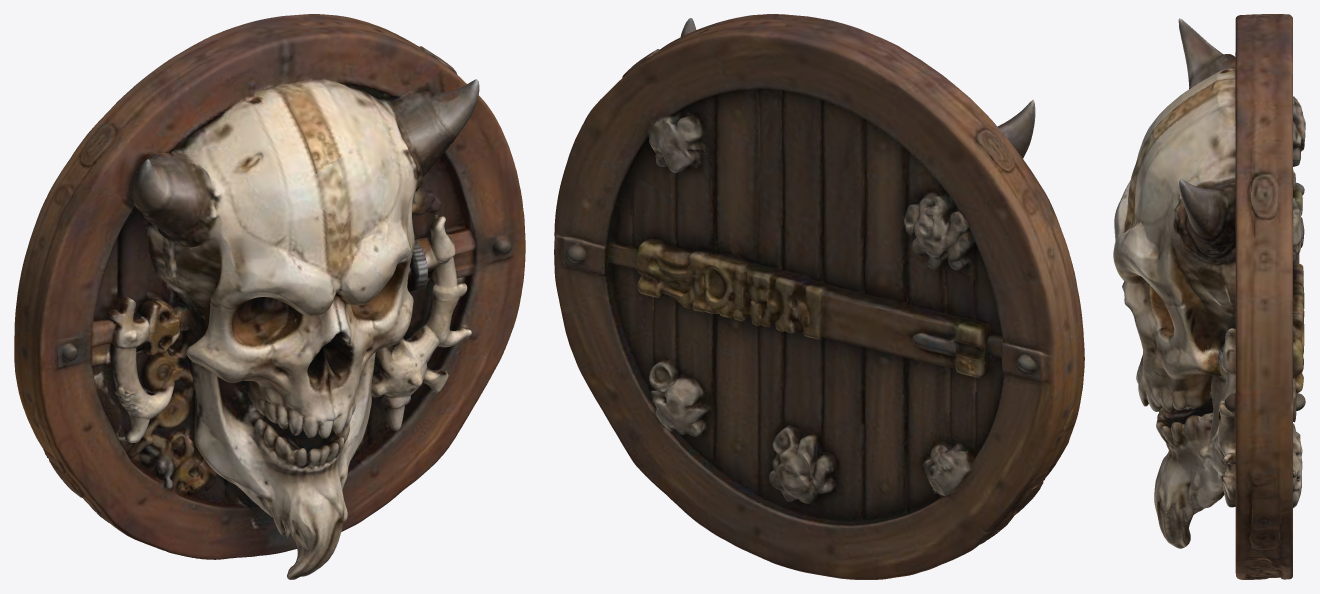
Rendered from PF_Shield15.glb.
3 views of the same model, side by side, from view 1: azimuth 30°, elevation 25°; view 2: azimuth 150°, elevation 25°; view 3: azimuth 270°, elevation 25° (orthographic). The views are drawn at different scales.
Bounding box in the file's own units: 1.98 × 2 × 0.6811.
1 material, 1 textured.
